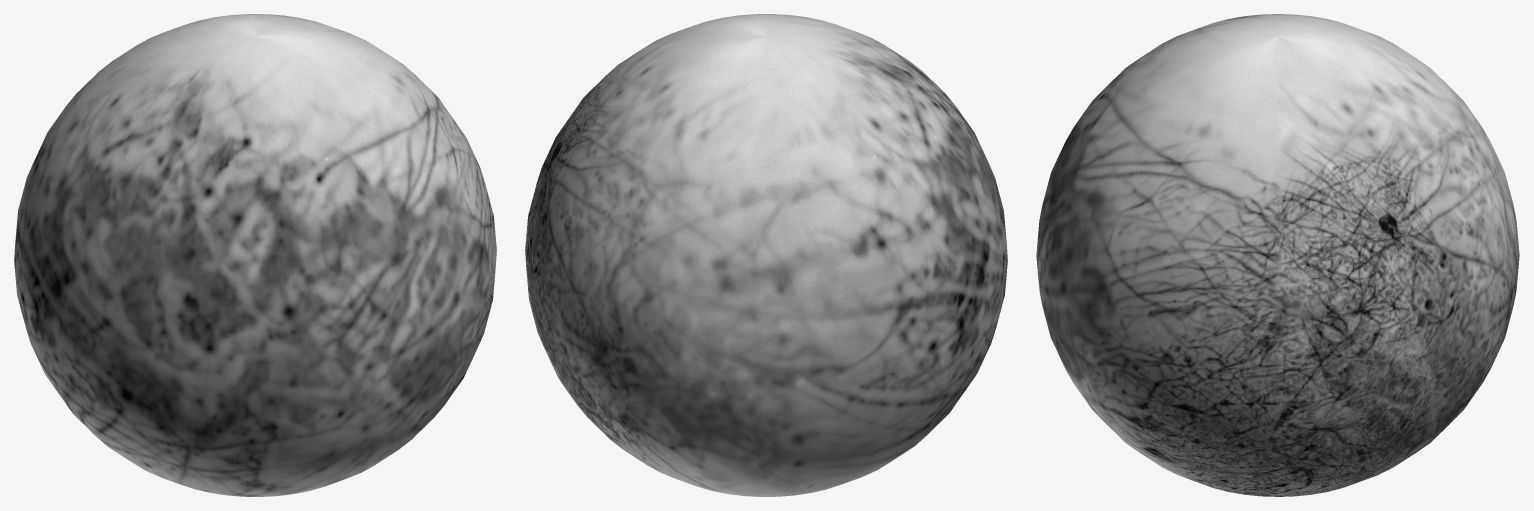
The model's file is europa.glb.
The picture shows the model from 3 angles, left to right: view 1: azimuth 30°, elevation 25°; view 2: azimuth 150°, elevation 25°; view 3: azimuth 270°, elevation 25°; orthographic projection.
Size of the model in its own units: 2 by 2 by 2.
1 material, 1 textured.
